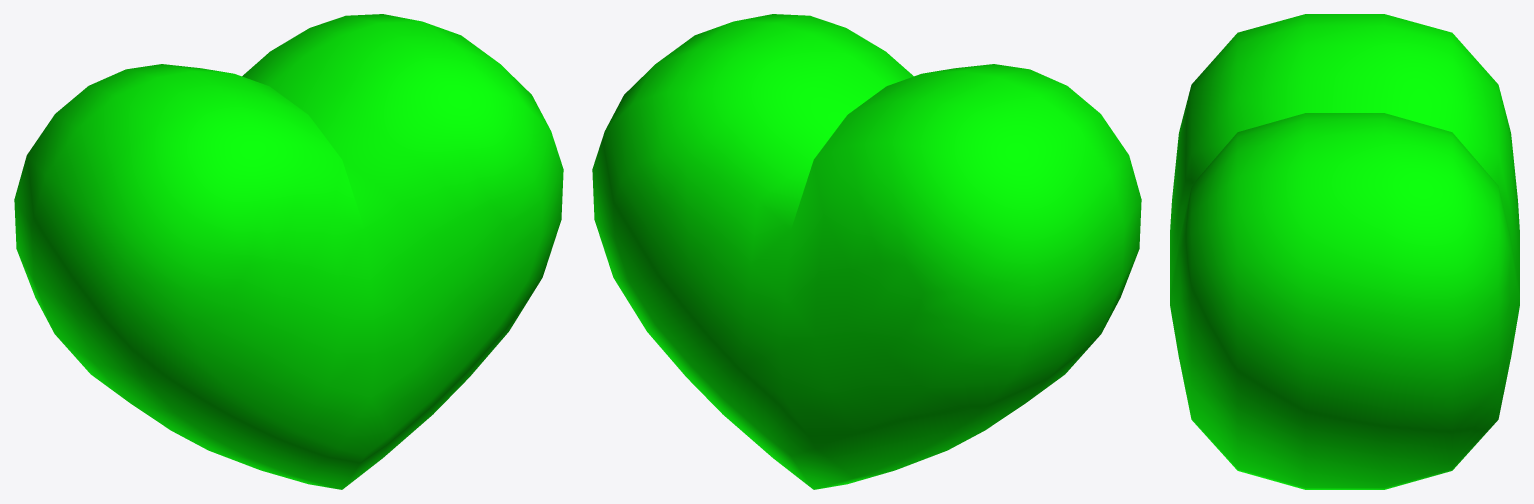
File: Cake_items_Heart-A.FBX
The picture shows the model from 3 angles, left to right: view 1: azimuth 30°, elevation 25°; view 2: azimuth 150°, elevation 25°; view 3: azimuth 270°, elevation 25°; orthographic projection.
Visible parts, largest first — view 1: Cake_items_Heart-A; view 2: Cake_items_Heart-A; view 3: Cake_items_Heart-A.
Boxes of the visible parts, left/top/right/bottom form: Cake_items_Heart-A: left=14, top=14, right=563, bottom=489; Cake_items_Heart-A: left=592, top=14, right=1141, bottom=489; Cake_items_Heart-A: left=1170, top=14, right=1519, bottom=489.
Size of the model in its own units: 1871 by 1524 by 1181.
